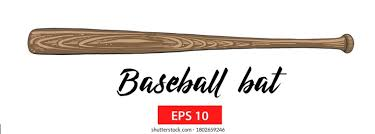bat: (26, 26, 355, 57)
